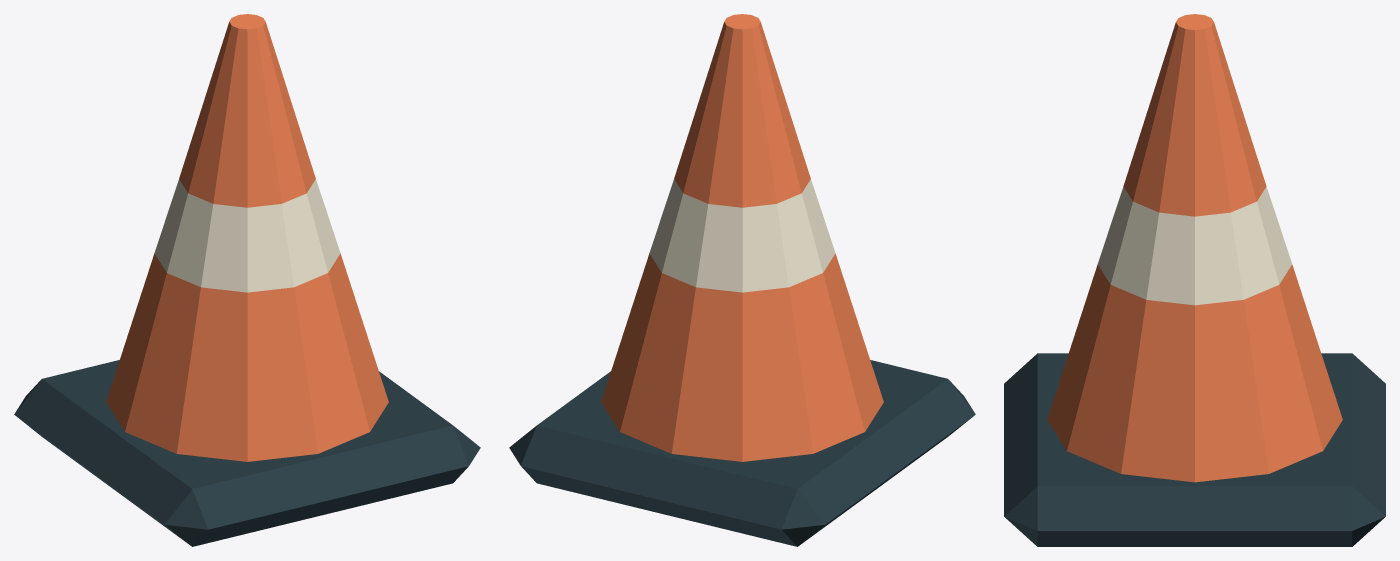
File: traffic_cone.glb
3 renders of one model, left to right at view 1: azimuth 30°, elevation 25°; view 2: azimuth 150°, elevation 25°; view 3: azimuth 270°, elevation 25°, orthographic. The views are drawn at different scales.
Parts seen in each view (by area): view 1: traffic_cone.Root_Orange, traffic_cone.Root_Dark, traffic_cone.Root_Cream; view 2: traffic_cone.Root_Orange, traffic_cone.Root_Dark, traffic_cone.Root_Cream; view 3: traffic_cone.Root_Orange, traffic_cone.Root_Dark, traffic_cone.Root_Cream.
Boxes of the visible parts, bbox=[...] form: traffic_cone.Root_Orange: bbox=[106, 14, 388, 461]; traffic_cone.Root_Dark: bbox=[14, 360, 480, 546]; traffic_cone.Root_Cream: bbox=[154, 179, 340, 292]; traffic_cone.Root_Orange: bbox=[601, 14, 883, 461]; traffic_cone.Root_Dark: bbox=[509, 360, 975, 546]; traffic_cone.Root_Cream: bbox=[649, 179, 835, 292]; traffic_cone.Root_Orange: bbox=[1047, 14, 1342, 482]; traffic_cone.Root_Dark: bbox=[1004, 353, 1385, 546]; traffic_cone.Root_Cream: bbox=[1097, 187, 1292, 305].
Size of the model in its own units: 0.4 by 0.53 by 0.4.
